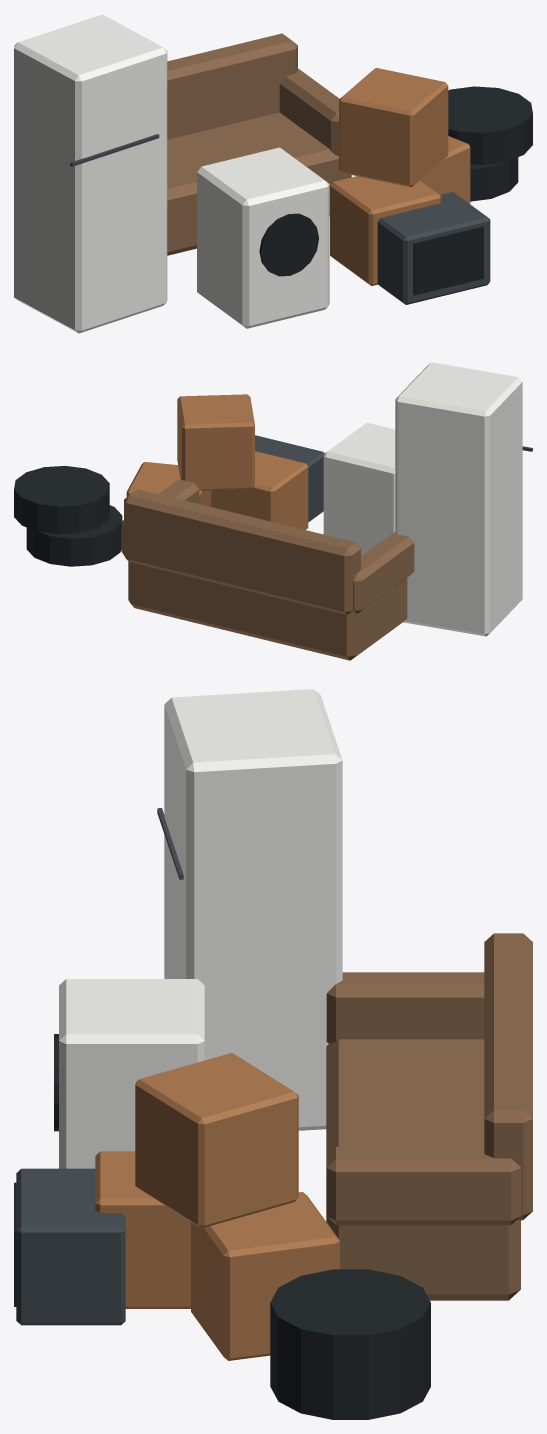
The model's file is JunkPile.fbx.
3 renders of one model, top to bottom at view 1: azimuth 30°, elevation 25°; view 2: azimuth 150°, elevation 25°; view 3: azimuth 270°, elevation 25°, orthographic. The views are drawn at different scales.
Parts seen in each view (by area): view 1: JunkPile; view 2: JunkPile; view 3: JunkPile.
Part boxes in pixels (left/top/right/bottom): JunkPile: left=14, top=14, right=532, bottom=333; JunkPile: left=14, top=362, right=532, bottom=660; JunkPile: left=14, top=689, right=532, bottom=1419.
Size of the model in its own units: 3.61 by 1.71 by 2.14.
